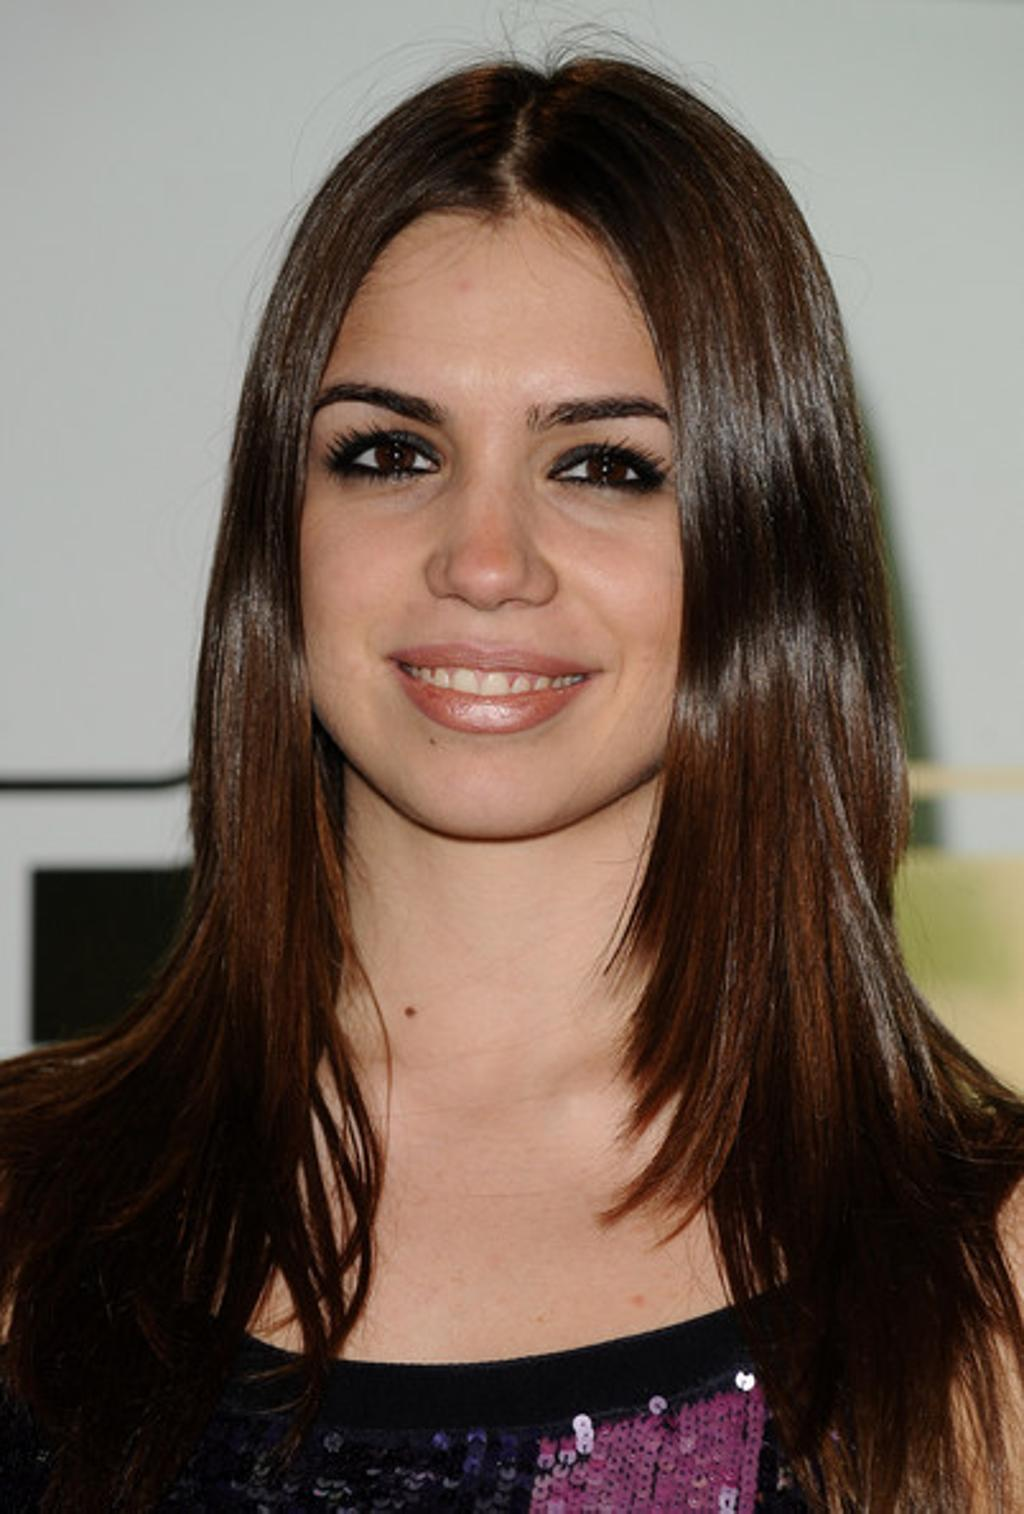face: (295, 177, 711, 835)
